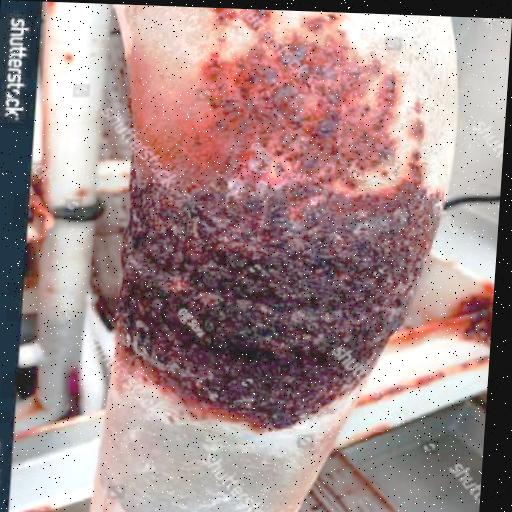corrosion: (97, 175, 451, 436), (182, 10, 426, 189)
